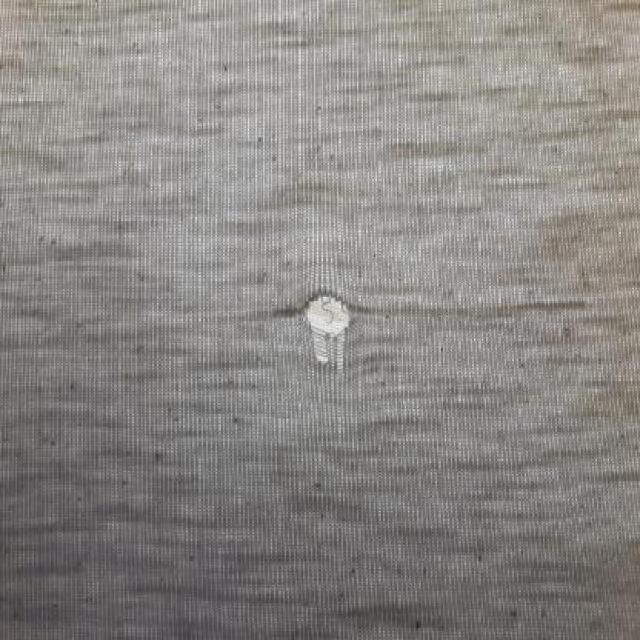other: (232, 229, 416, 414)
